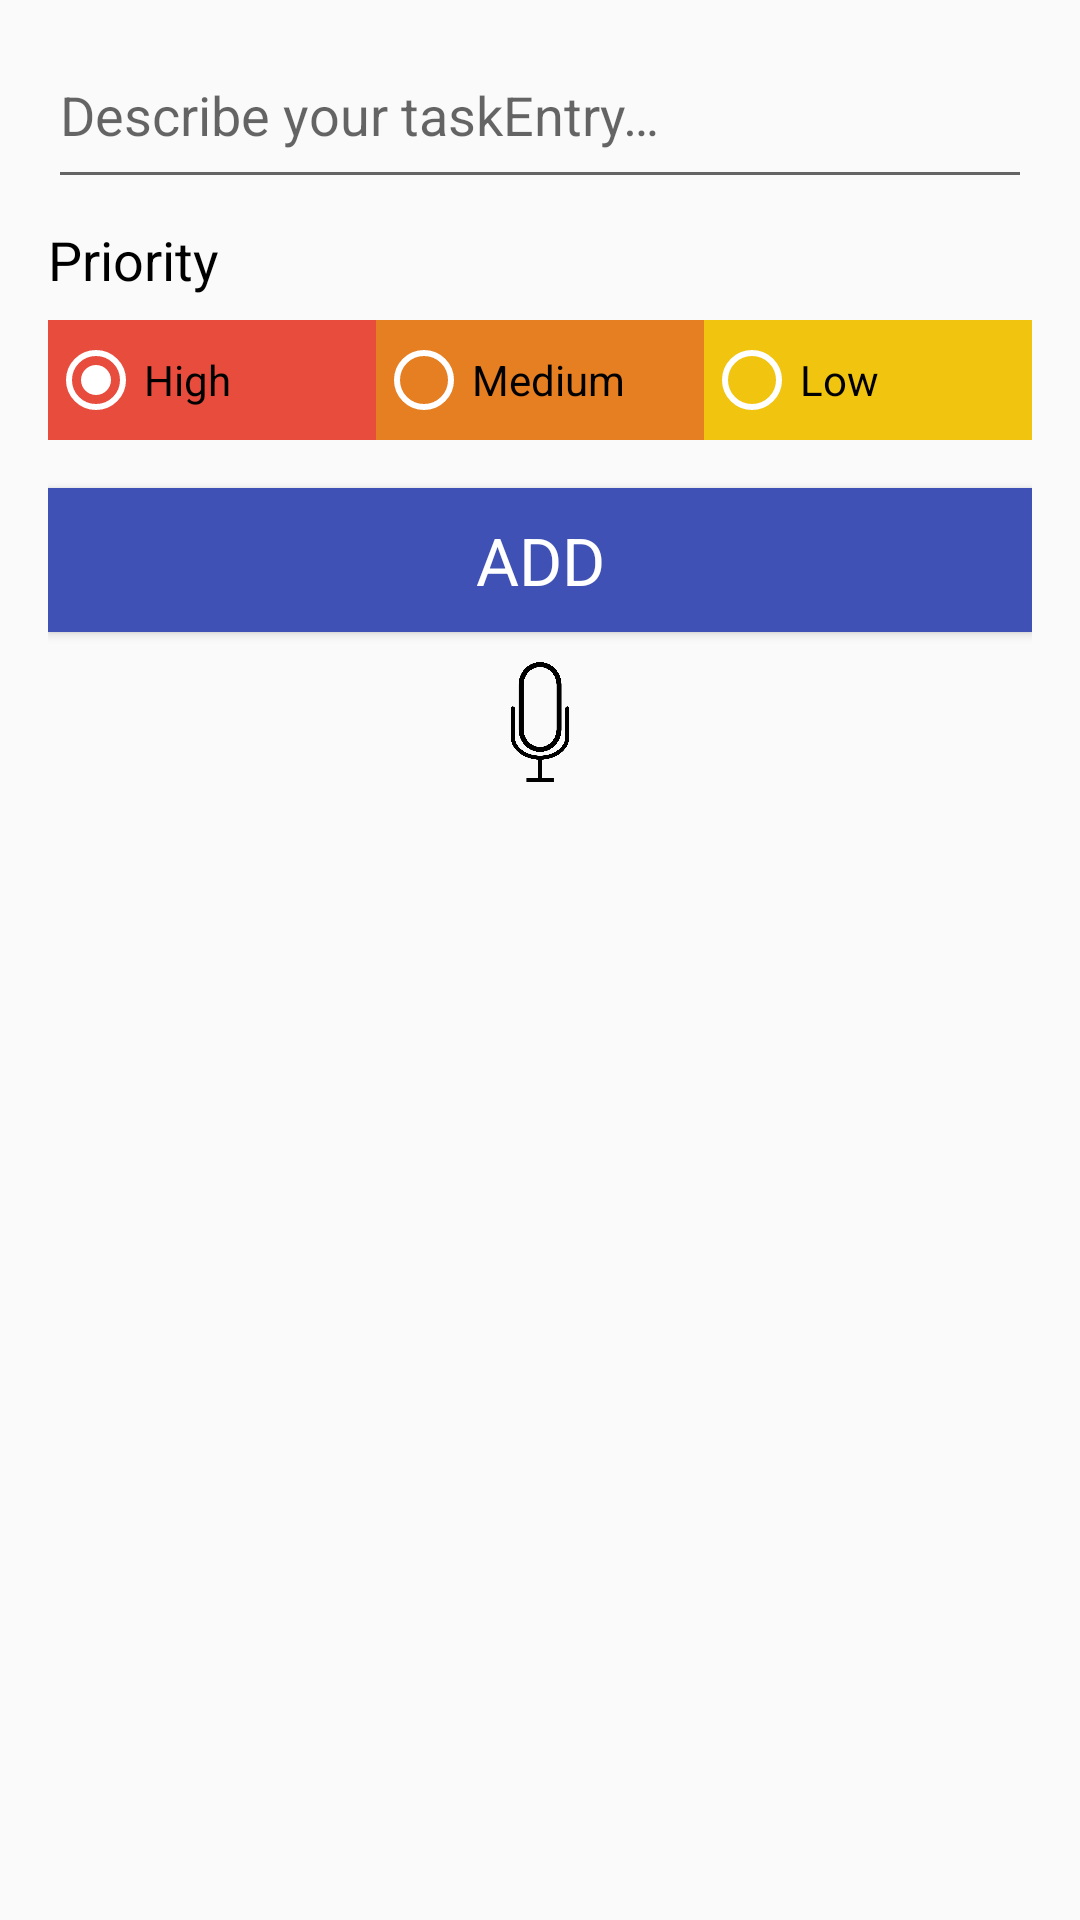

Point at icon controls on the screen. Image size 1080px×1920px, points as point (x, y).
microphone: point (540, 722)
